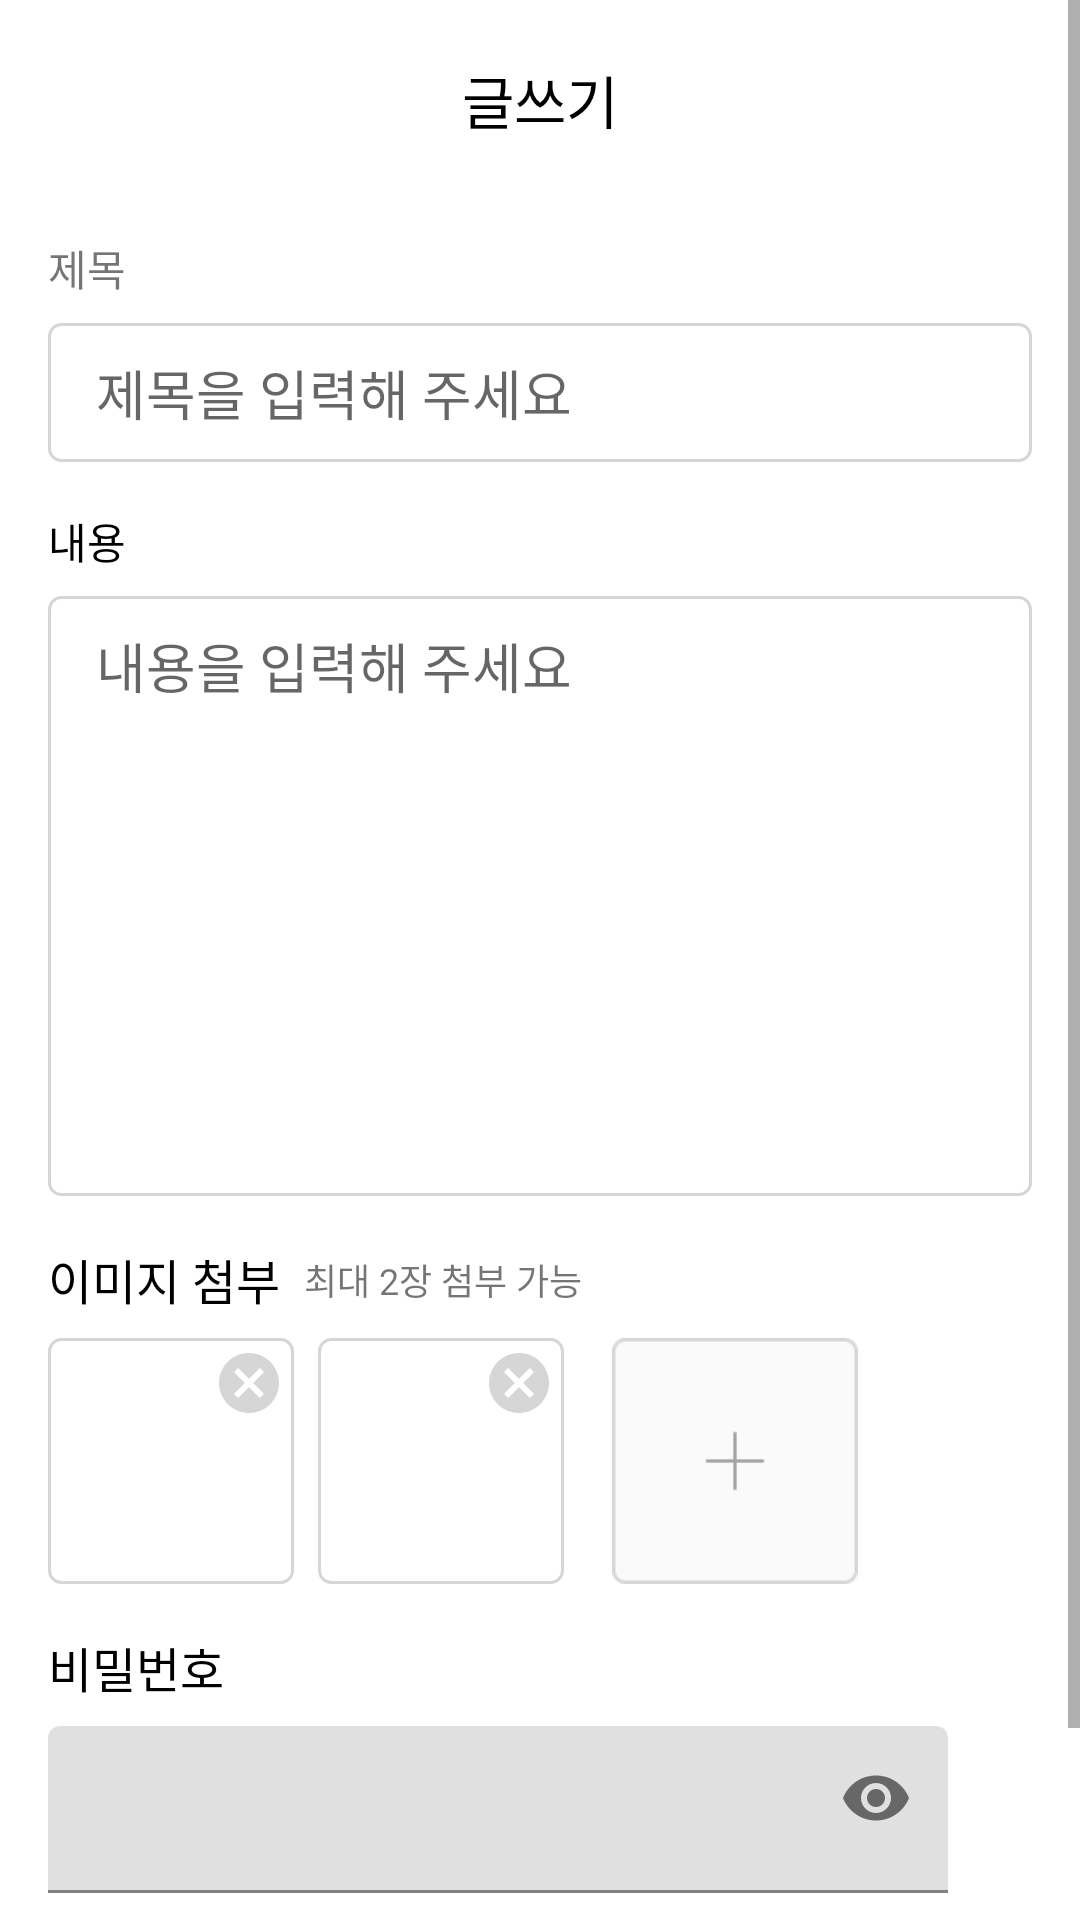

Icons on this 1080px×1920px Android screen, each with its box as (x1, y1, x2, y2):
add photo: (612, 1338, 858, 1584)
cancel: (219, 1353, 279, 1413), (489, 1353, 549, 1413)
